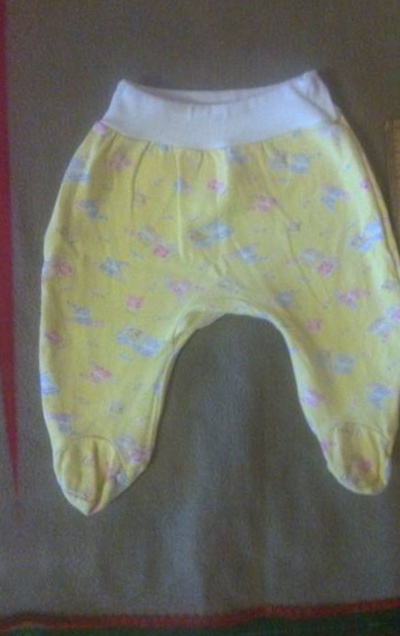Pants: (9, 55, 400, 540)
